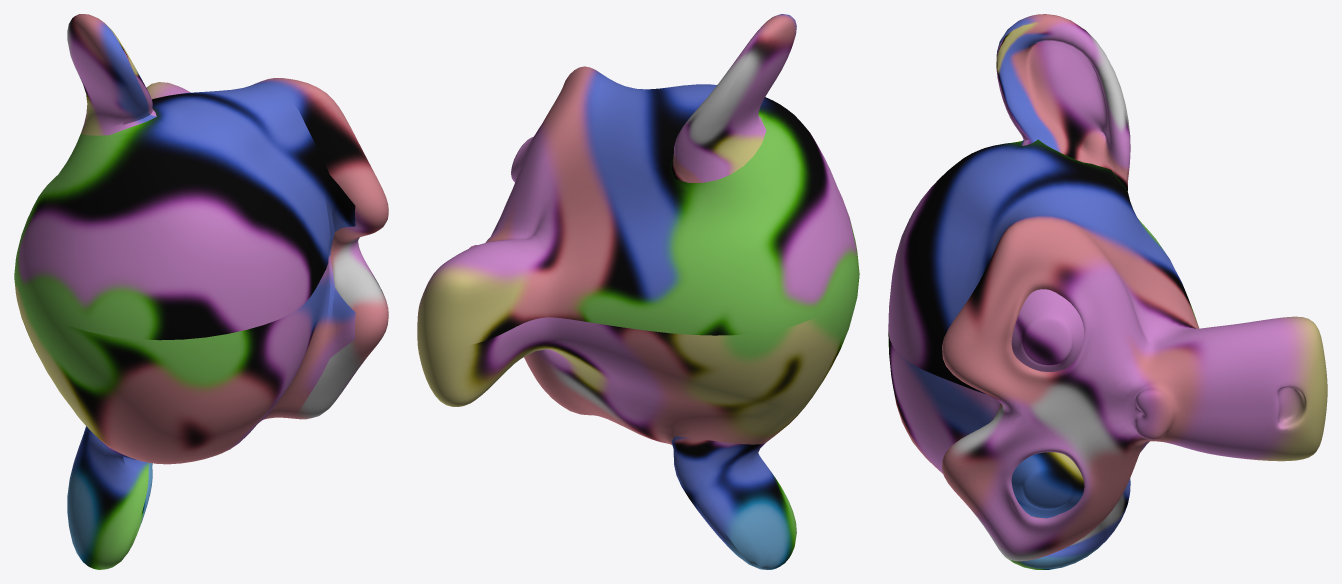
File: Suzanne.OBJ
3 renders of one model, left to right at view 1: azimuth 30°, elevation 25°; view 2: azimuth 150°, elevation 25°; view 3: azimuth 270°, elevation 25°, orthographic.
Parts seen in each view (by area): view 1: Suzanne; view 2: Suzanne; view 3: Suzanne.
Boxes of the visible parts, x1,y1,x2,y2 form: Suzanne: (14, 14, 388, 569); Suzanne: (417, 14, 859, 569); Suzanne: (888, 14, 1327, 569).
Size of the model in its own units: 0.8004 by 1.33 by 0.9555.
